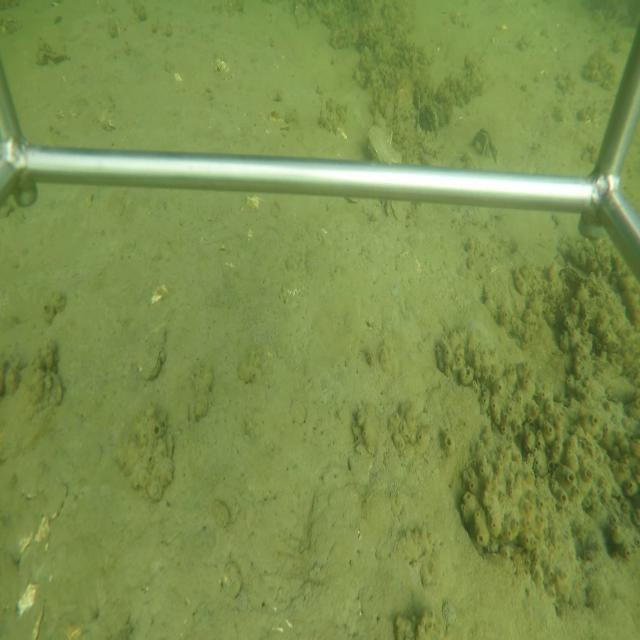Oyster-Closed: (137, 325, 169, 384), (364, 123, 402, 163)
Oyster-Open: (471, 126, 499, 163)
